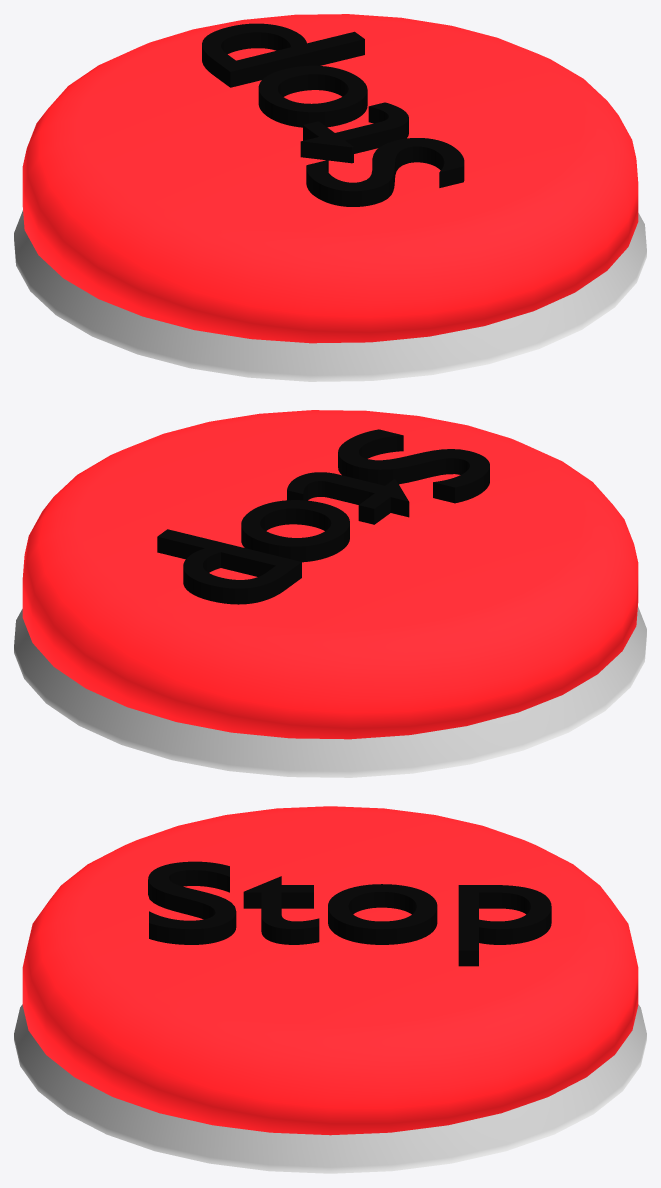
The model's file is FlyGameStopButton.fbx.
3 views of the same model, one above another, from view 1: azimuth 30°, elevation 25°; view 2: azimuth 150°, elevation 25°; view 3: azimuth 270°, elevation 25° (orthographic).
Visible parts, largest first — view 1: Circle, Text; view 2: Circle, Text; view 3: Circle, Text.
Part boxes in pixels (x1,y1,x2,y2): Circle: (14, 14, 646, 381); Text: (202, 23, 464, 206); Circle: (14, 410, 646, 777); Text: (157, 429, 489, 604); Circle: (14, 806, 646, 1173); Text: (148, 861, 551, 966).
Size of the model in its own units: 17.91 by 4.3 by 17.91.
